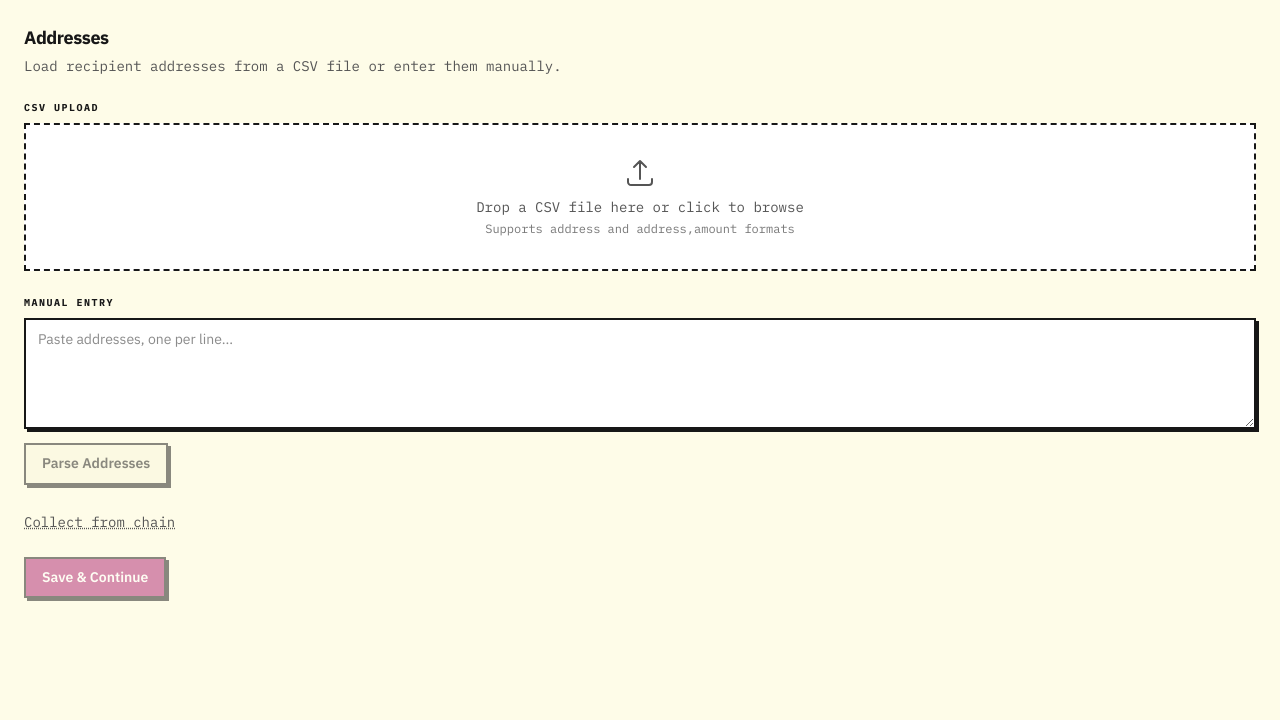
Scenario: AddressesStep › deduplicates collected addresses against existing ones
# First: load an address manually
Step 1. Type "0x1234567890abcdef1234567890abcdef12345678" into the text box with placeholder "Paste addresses, one per line..." → (640, 374), box left=24, top=318, right=1256, bottom=429
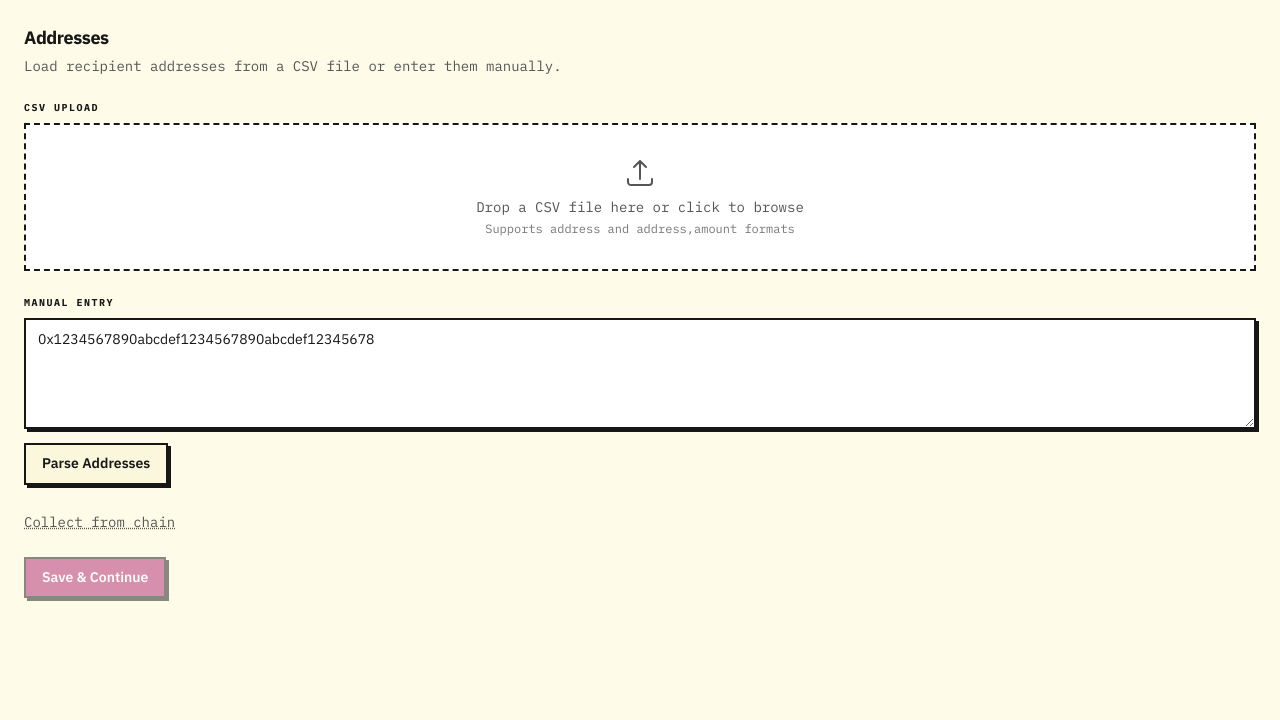
Step 2. Click the button "Parse Addresses" → (96, 464), box left=24, top=443, right=168, bottom=484
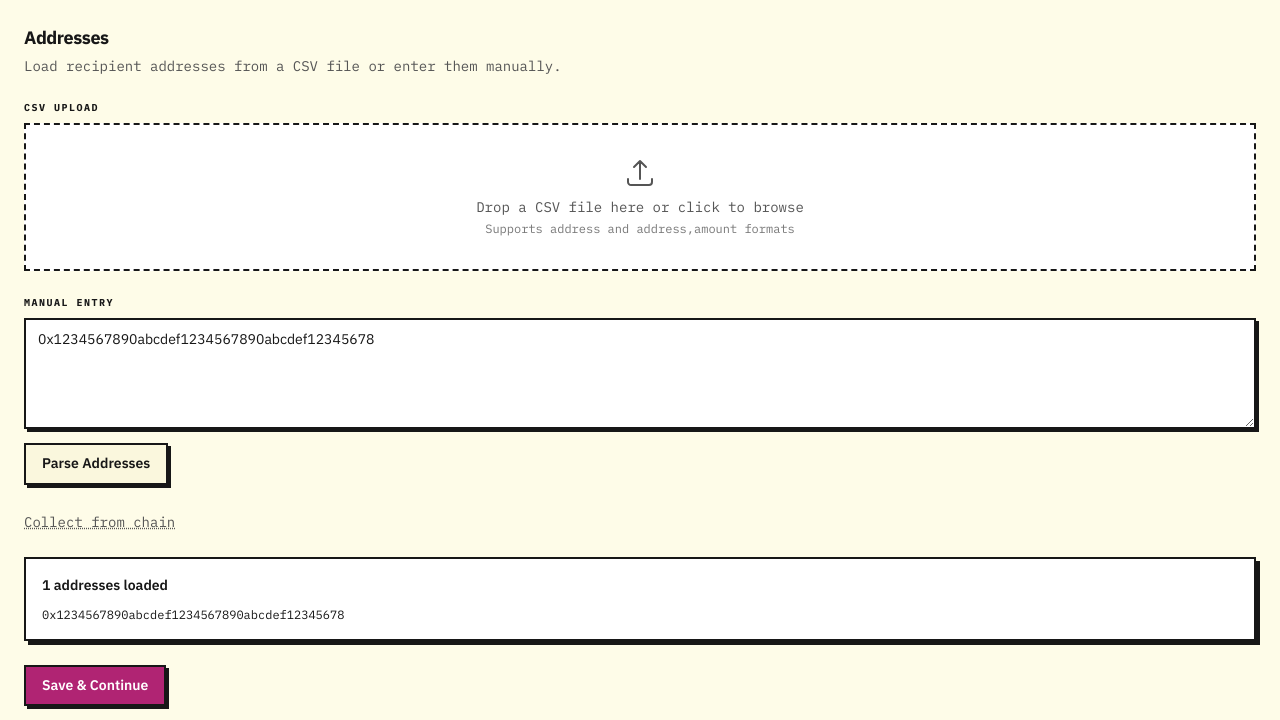
expect the text "1 addresses loaded" is shown: met, box left=42, top=574, right=168, bottom=594
# Then: collect from chain (includes the same address + a new one)
Step 3. Click the button "Collect from chain" → (100, 522), box left=24, top=512, right=175, bottom=532
(page scrolled)
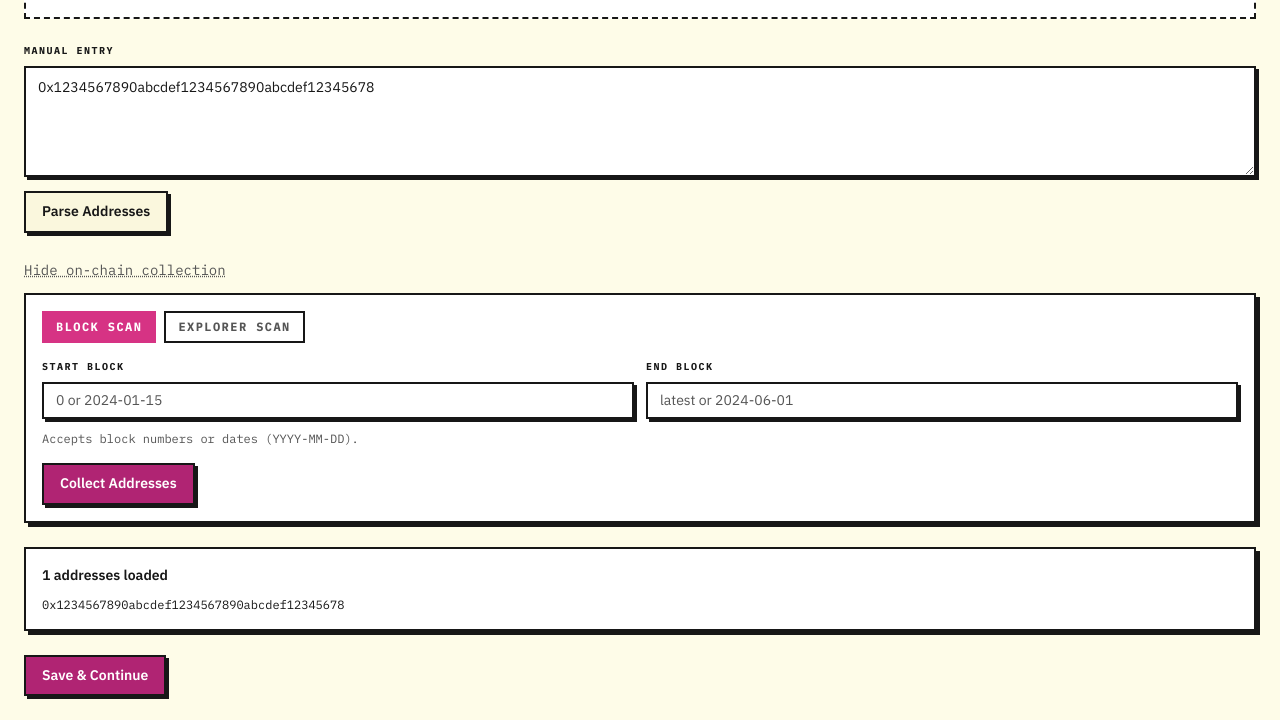
Step 4. Click the button "Collect Addresses" → (118, 484), box left=42, top=463, right=195, bottom=504
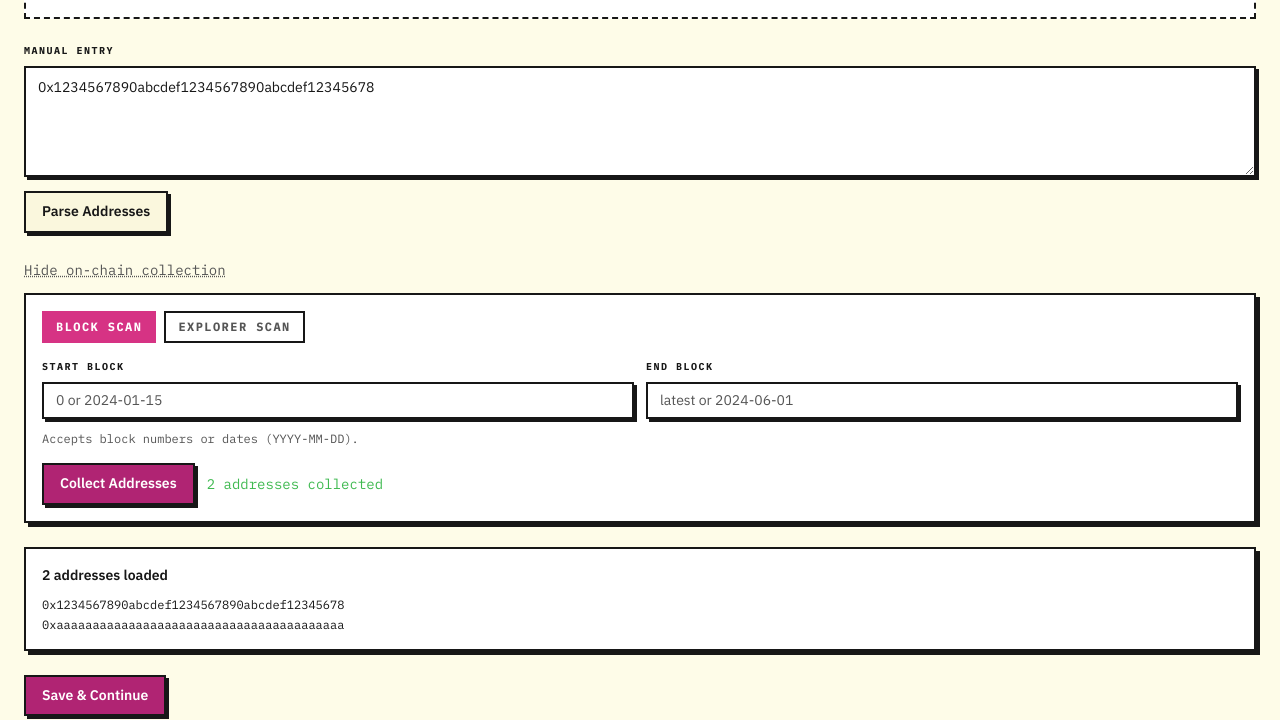
expect the text "2 addresses collected" is shown: met, box left=207, top=474, right=383, bottom=494
expect the text "2 addresses loaded" is shown: met, box left=42, top=564, right=168, bottom=584
